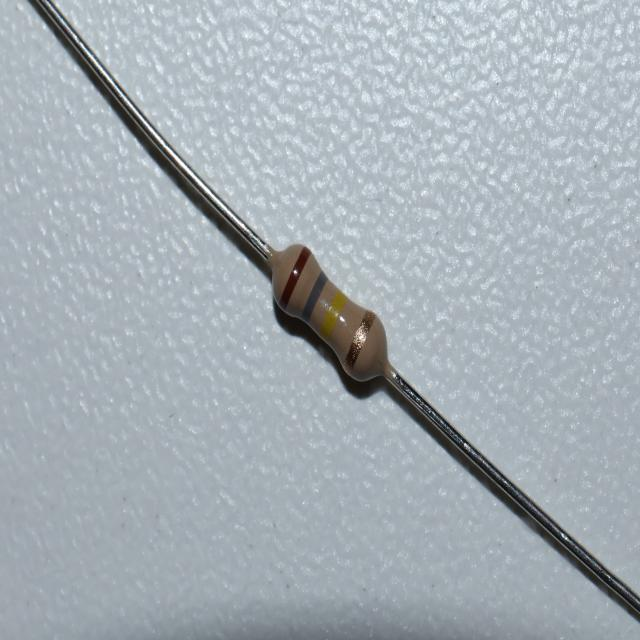resistor: (269, 245, 389, 380)
